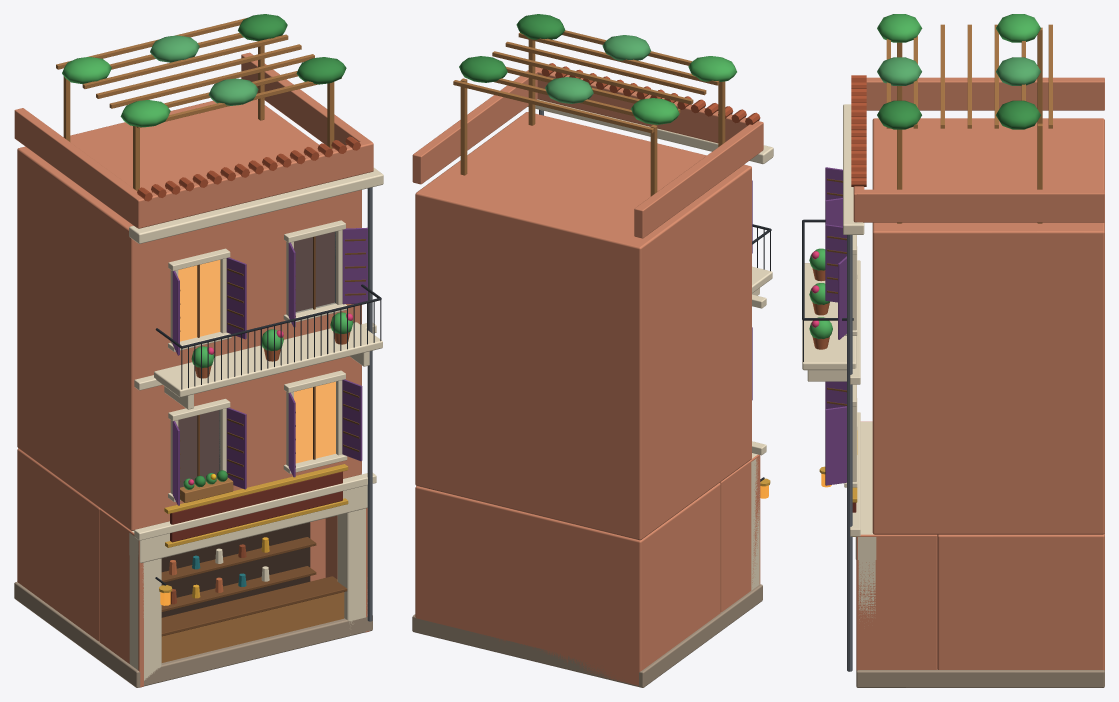
File: mk_house_b.glb
3 views of the same model, side by side, from view 1: azimuth 30°, elevation 25°; view 2: azimuth 150°, elevation 25°; view 3: azimuth 270°, elevation 25° (orthographic). The views are drawn at different scales.
Visible parts, largest first — view 1: mk_house_b_body; view 2: mk_house_b_body; view 3: mk_house_b_body.
Part boxes in pixels (x1=…): mk_house_b_body: x1=14, y1=14, x2=383, y2=687; mk_house_b_body: x1=412, y1=14, x2=773, y2=687; mk_house_b_body: x1=802, y1=14, x2=1104, y2=687.
Bounding box in the file's own units: 5.3 × 11.61 × 5.61.
